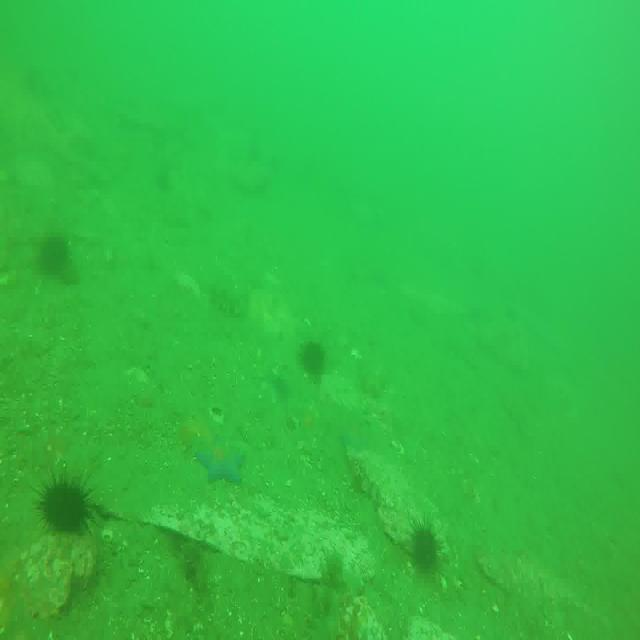echinus: (42, 469, 91, 533), (409, 512, 440, 579), (36, 233, 70, 283), (301, 342, 328, 379)
holothurian: (209, 273, 249, 318)
starfish: (197, 429, 245, 488)
